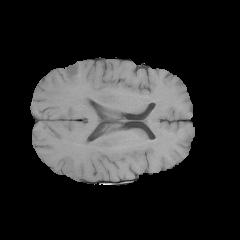glioma: (54, 62, 84, 87)
